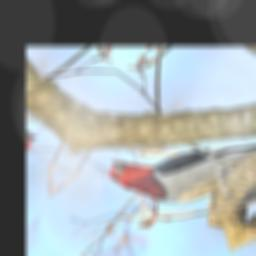Woodpecker: (90, 96, 256, 230)
